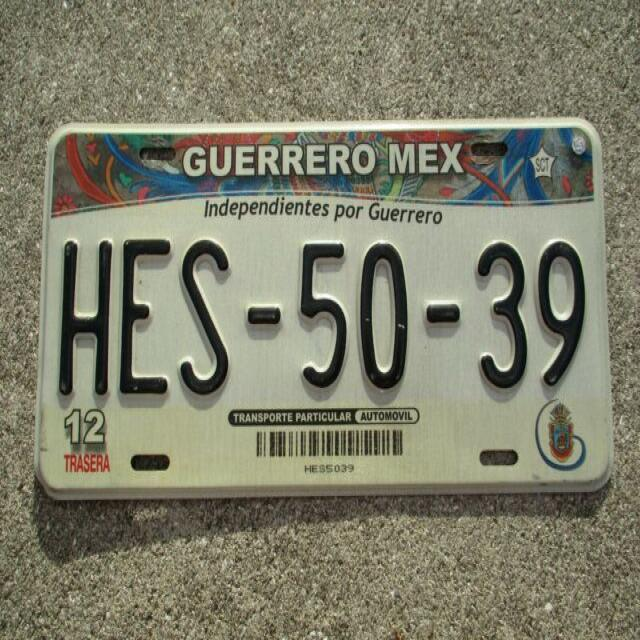placa: (53, 223, 594, 398)
